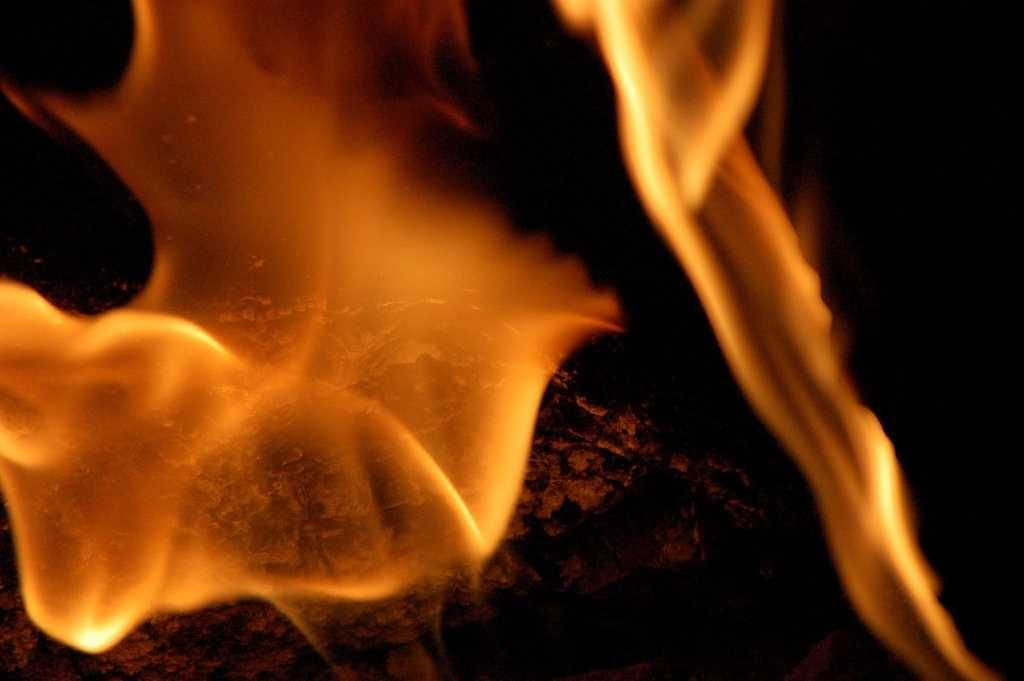fire: (32, 327, 512, 587), (612, 0, 753, 173)
